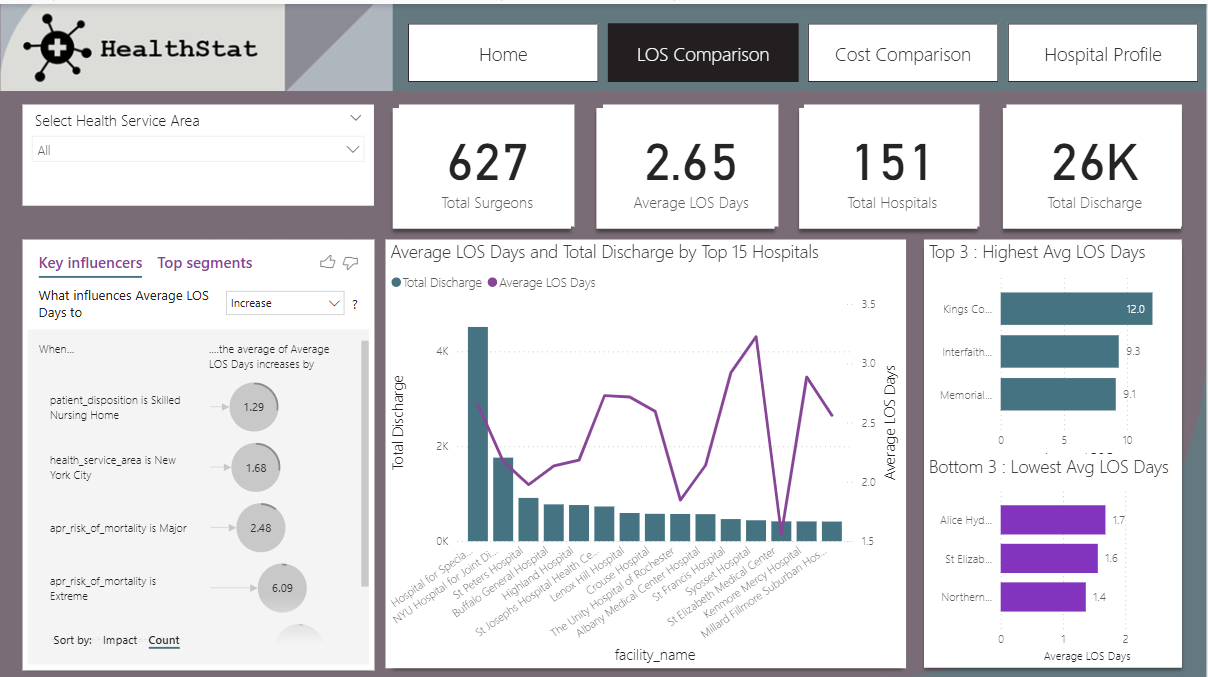

The page's visual inventory and layout, read from the dashboard file:
{"tool":"powerbi","page":{"name":"LOS Comparison","canvas":[1280,720],"ordinal":1},"visuals":[{"type":"lineStackedColumnComboChart","title":"Average LOS Days and Total Discharge by Top 15 Hospitals","fields":{"Category":["hospital_discharges.facility_name"],"Y":["__Measures.Total Discharge"],"Y2":["__Measures.Average LOS Days"]},"box":[408.8,249.7,551.9,454.9],"z":0},{"type":"card","fields":{"Values":["__Measures.Total Surgeons"]},"box":[423.3,107.3,186.3,129.6],"z":1000},{"type":"slicer","fields":{"Values":["hospital_discharges.health_service_area"]},"box":[24.3,107.3,372.7,107.3],"z":1001},{"type":"card","fields":{"Values":["__Measures.Average LOS Days"]},"box":[640,107.3,186.3,129.6],"z":1002},{"type":"card","fields":{"Values":["__Measures.Total Hospitals"]},"box":[852.7,107.3,186.3,129.6],"z":1003},{"type":"card","fields":{"Values":["__Measures.Total Discharge"]},"box":[1067.3,107.3,186.3,129.6],"z":1004},{"type":"keyDriversVisual","fields":{"Target":["__Measures.Average LOS Days"],"ExplainBy":["hospital_discharges.apr_risk_of_mortality","hospital_discharges.apr_severity_of_illness_description","hospital_discharges.ccs_diagnosis_description","hospital_discharges.patient_disposition","hospital_discharges.gender","hospital_discharges.Age Bins","Surgical_Program_Size_Summery.Surgical Program Size","hospital_discharges.health_service_area"]},"box":[24.3,249.1,372.7,455.7],"z":1005},{"type":"clusteredBarChart","title":"Top 3 : Highest Avg LOS Days ","fields":{"Category":["hospital_discharges.facility_name"],"Y":["__Measures.Average LOS Days"]},"box":[980.3,249.1,273.4,243],"z":1006},{"type":"clusteredBarChart","title":"Bottom 3 : Lowest Avg LOS Days ","fields":{"Category":["hospital_discharges.facility_name"],"Y":["__Measures.Average LOS Days"]},"box":[980.3,478,273.4,226.8],"z":1007},{"type":"pageNavigator","box":[433.4,20.3,838.5,62.8],"z":1008}]}

Visuals, with their boxes in screenshot pixels (x1, y1, x2, y2), scaled from the page's 1280x720 canvas onto the 1208x677 screenshot:
"Average LOS Days and Total Discharge by Top 15 Hospitals" lineStackedColumnComboChart: (386,235,907,663)
card - __Measures.Total Surgeons: (399,101,575,223)
slicer - hospital_discharges.health_service_area: (23,101,375,202)
card - __Measures.Average LOS Days: (604,101,780,223)
card - __Measures.Total Hospitals: (805,101,981,223)
card - __Measures.Total Discharge: (1007,101,1183,223)
keyDriversVisual - __Measures.Average LOS Days x hospital_discharges.apr_risk_of_mortality: (23,234,375,663)
"Top 3 : Highest Avg LOS Days " clusteredBarChart: (925,234,1183,463)
"Bottom 3 : Lowest Avg LOS Days " clusteredBarChart: (925,449,1183,663)
pageNavigator: (409,19,1200,78)
